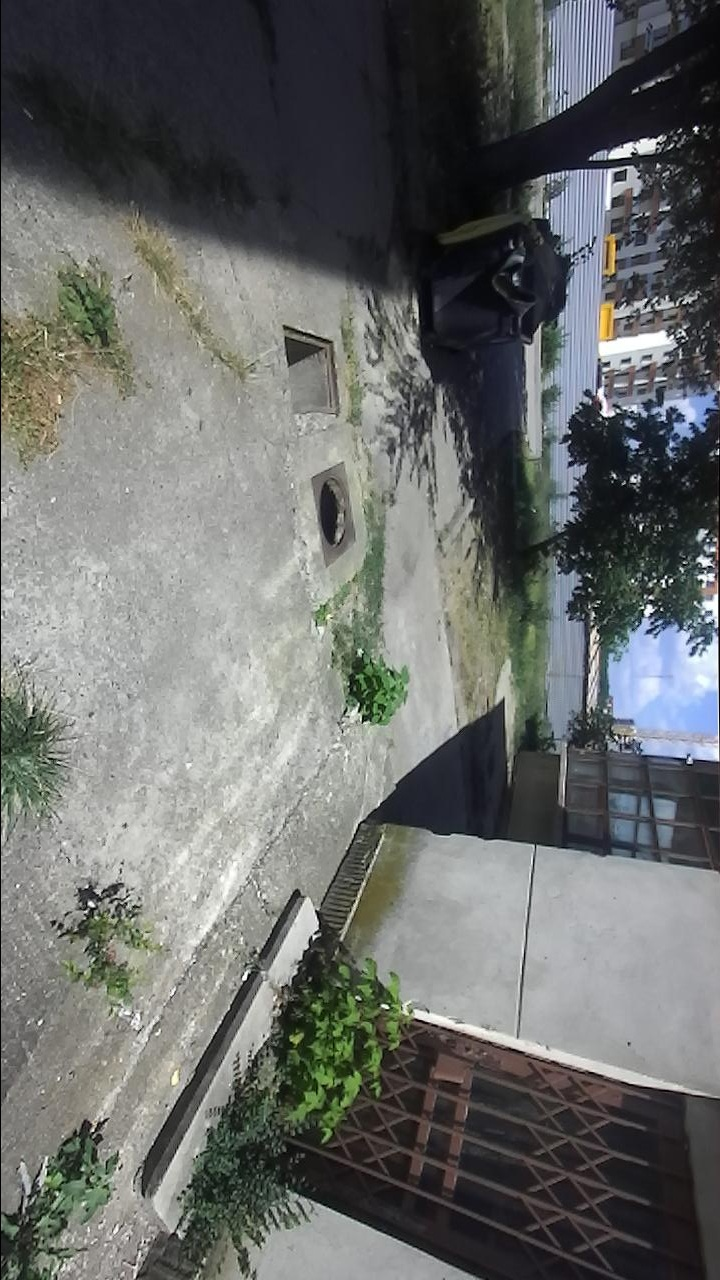drain: (279, 317, 342, 418), (316, 472, 351, 557)
